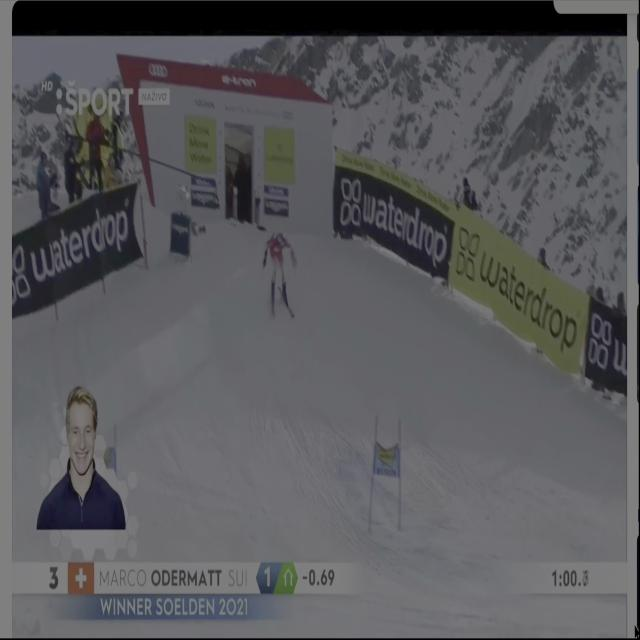gate: (363, 412, 385, 542), (389, 414, 408, 543)
